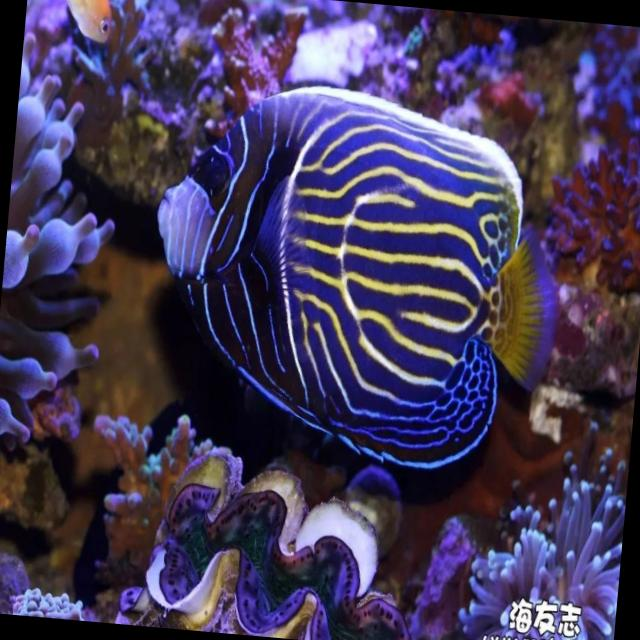AngelFish: (138, 72, 571, 487)
